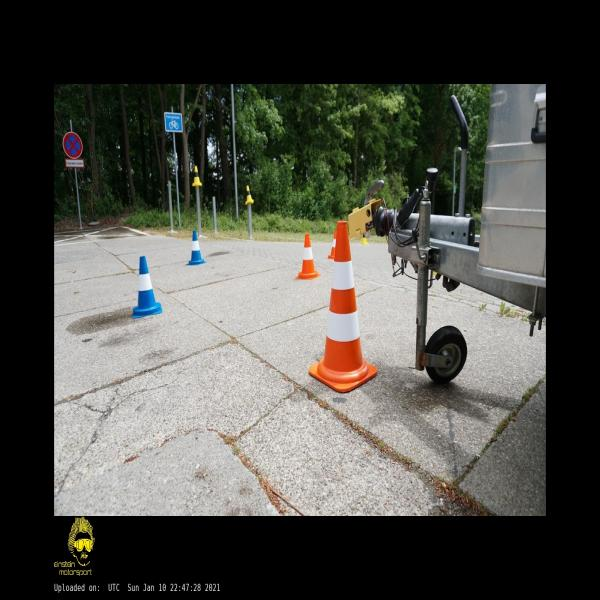blue_cone: (132, 256, 162, 318), (186, 230, 207, 264)
large_orange_cone: (308, 221, 377, 392)
orange_cone: (295, 234, 320, 280), (327, 228, 337, 258)
yellow_cone: (192, 166, 202, 186), (244, 185, 254, 204), (360, 233, 368, 245)
